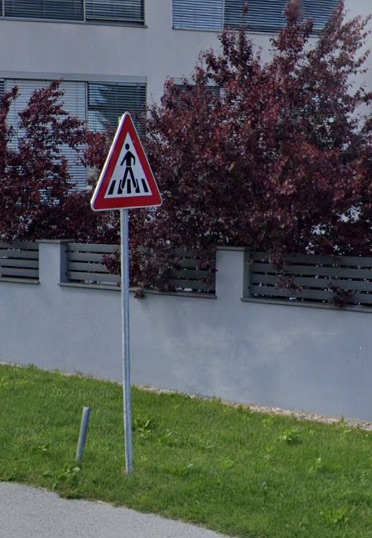Približavanje pješačkom prijelazu: (90, 111, 164, 212)
